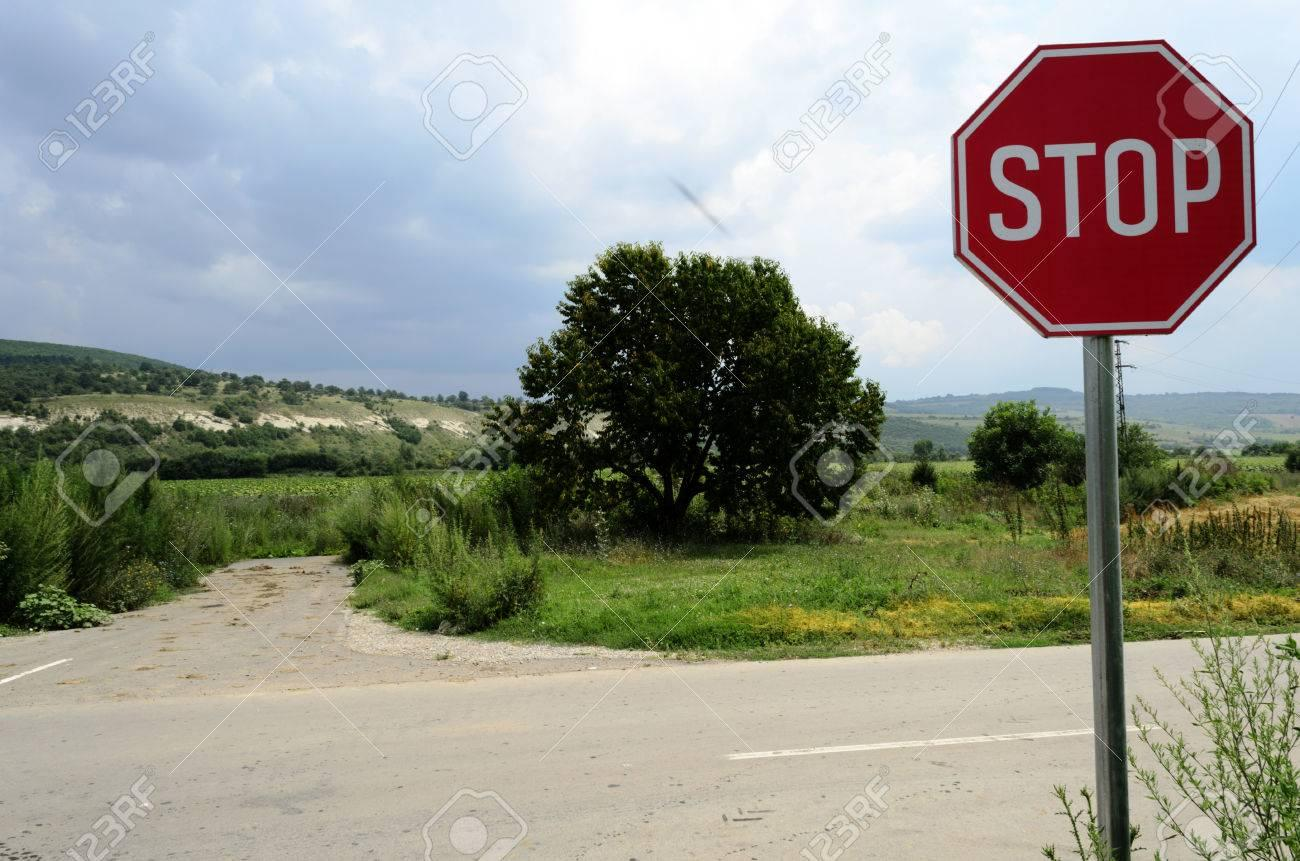Pole: (1079, 339, 1130, 861)
Sign: (946, 43, 1256, 339)
